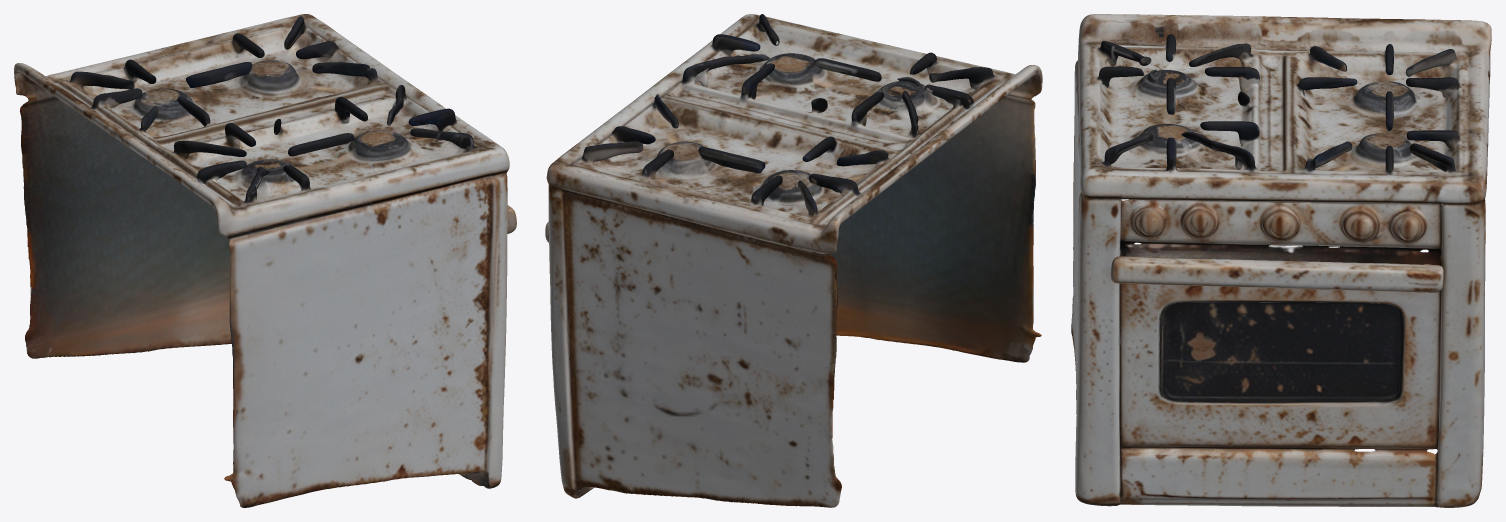
Rendered from Oven.glb.
3 views of the same model, side by side, from view 1: azimuth 30°, elevation 25°; view 2: azimuth 150°, elevation 25°; view 3: azimuth 270°, elevation 25° (orthographic).
Parts seen in each view (by area): view 1: tripo_node_e06188bd-c3e4-43e6-b874-db45dcd47794_0; view 2: tripo_node_e06188bd-c3e4-43e6-b874-db45dcd47794_0; view 3: tripo_node_e06188bd-c3e4-43e6-b874-db45dcd47794_0.
Part boxes in pixels (x1,y1,x2,y2): tripo_node_e06188bd-c3e4-43e6-b874-db45dcd47794_0: [14, 14, 516, 507]; tripo_node_e06188bd-c3e4-43e6-b874-db45dcd47794_0: [545, 14, 1042, 507]; tripo_node_e06188bd-c3e4-43e6-b874-db45dcd47794_0: [1071, 14, 1491, 507].
Bounding box in the file's own units: 0.8114 × 0.8827 × 0.9304.
Materials: 1 (1 with a texture image).
